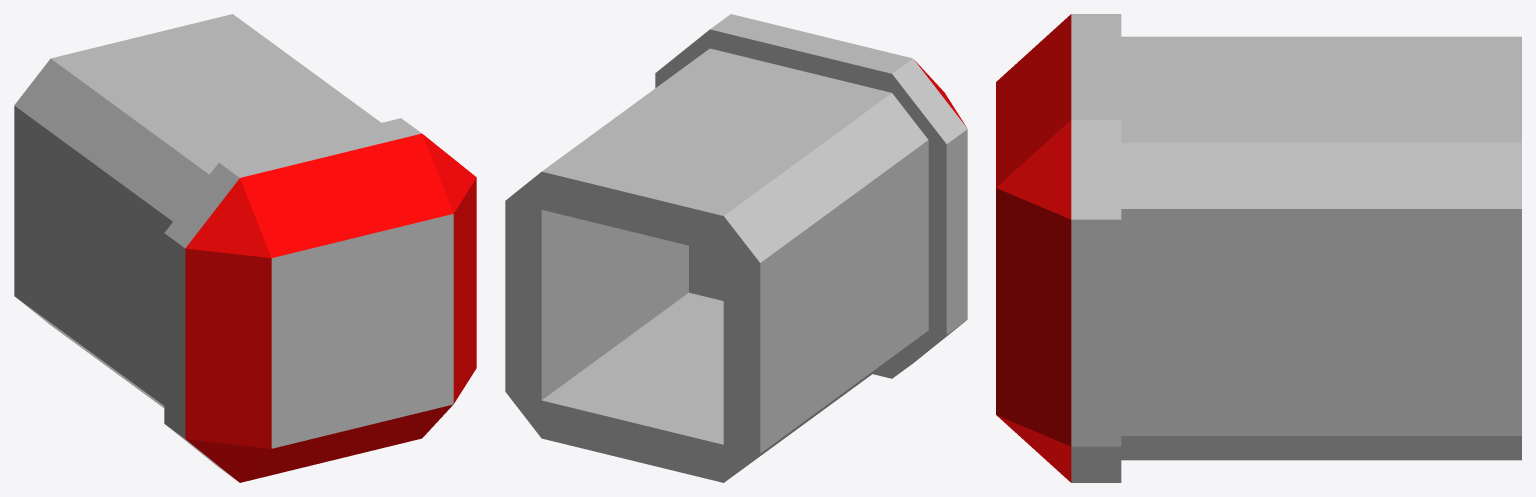
File: truba s konzom.fbx
The picture shows the model from 3 angles, left to right: view 1: azimuth 30°, elevation 25°; view 2: azimuth 150°, elevation 25°; view 3: azimuth 270°, elevation 25°; orthographic projection. The views are drawn at different scales.
Visible parts, largest first — view 1: truba s konzom; view 2: truba s konzom; view 3: truba s konzom.
Boxes of the visible parts, x1=… form: truba s konzom: x1=14, y1=14, x2=476, y2=482; truba s konzom: x1=505, y1=14, x2=967, y2=482; truba s konzom: x1=996, y1=14, x2=1521, y2=482.
Bounding box in the file's own units: 1600 × 1600 × 2100.
